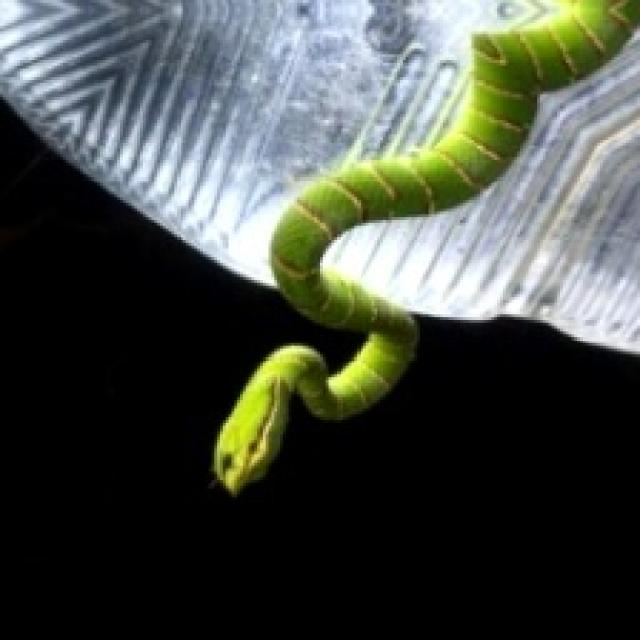north ph temple pitviper: (214, 0, 637, 491)
